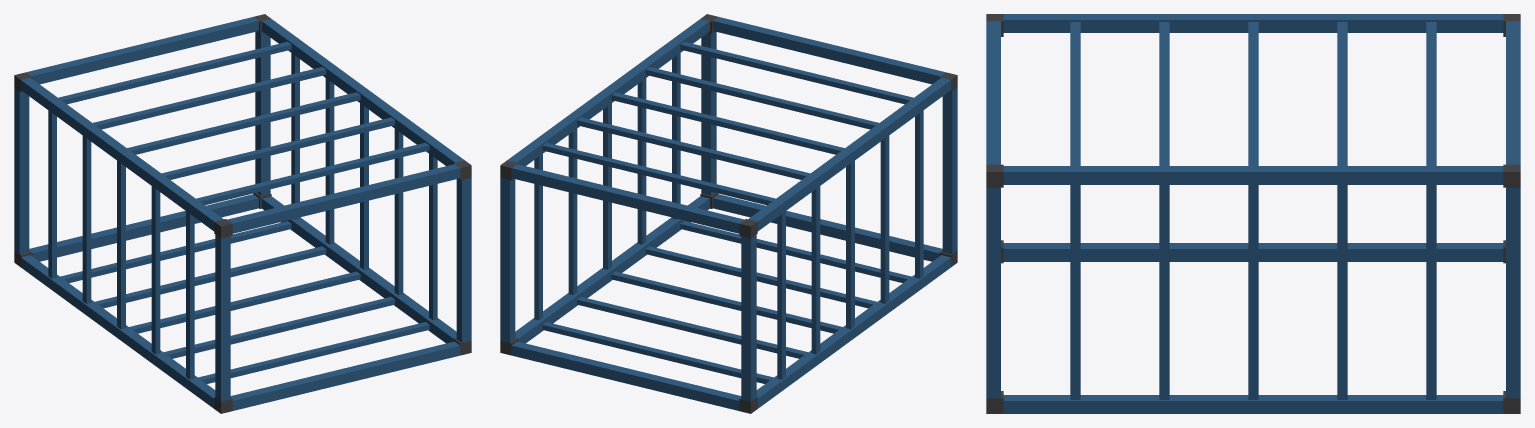
File: hold100_frame.obj
3 renders of one model, left to right at view 1: azimuth 30°, elevation 25°; view 2: azimuth 150°, elevation 25°; view 3: azimuth 270°, elevation 25°, orthographic. The views are drawn at different scales.
Visible parts, largest first — view 1: hold100_frame; view 2: hold100_frame; view 3: hold100_frame.
Boxes of the visible parts, box(x1,y1,x2,y2) form: hold100_frame: box(14, 14, 471, 413); hold100_frame: box(500, 14, 957, 413); hold100_frame: box(986, 14, 1520, 413).
Size of the model in its own units: 5.19 by 3.71 by 7.42.
